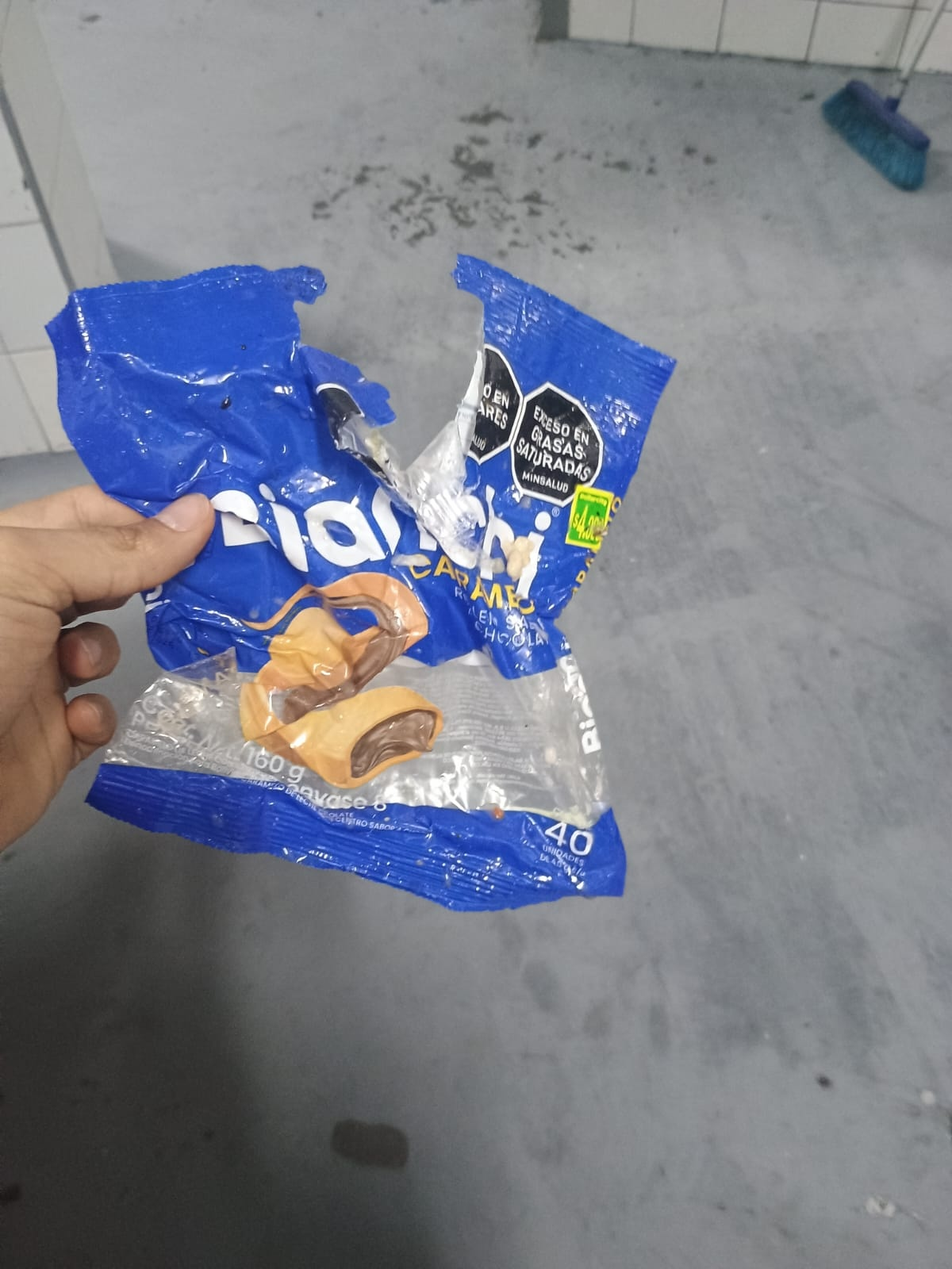Ordinario: (44, 257, 678, 917)
